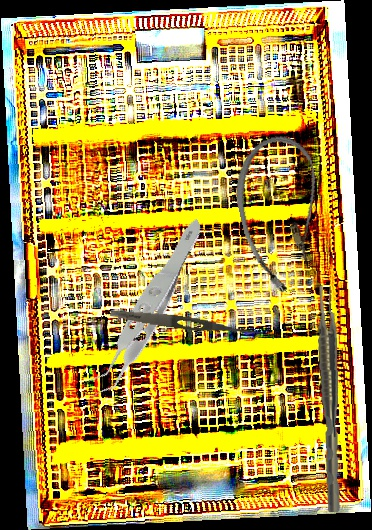Cannula: (224, 129, 340, 299)
Dressing Forceps: (109, 306, 265, 340)
Tissue Forceps: (35, 217, 250, 403), (317, 284, 340, 513)
